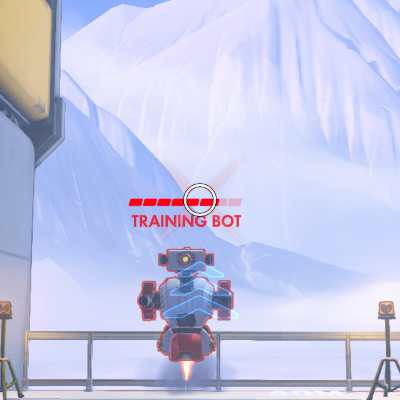hpbar: (129, 198, 242, 207)
